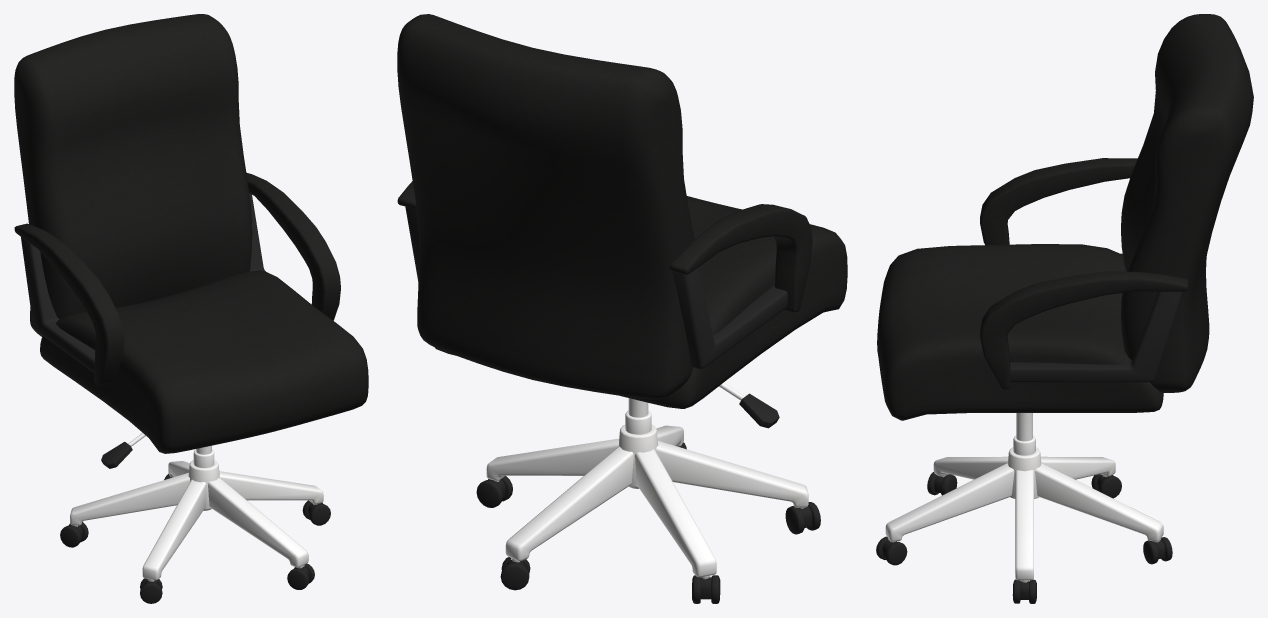
Rendered from Chair_B.fbx.
The picture shows the model from 3 angles, left to right: view 1: azimuth 30°, elevation 25°; view 2: azimuth 150°, elevation 25°; view 3: azimuth 270°, elevation 25°; orthographic projection. The views are drawn at different scales.
Visible parts, largest first — view 1: Chair_B; view 2: Chair_B; view 3: Chair_B.
Boxes of the visible parts, box(x1,y1,x2,y2) form: Chair_B: box(14, 14, 368, 603); Chair_B: box(397, 14, 847, 603); Chair_B: box(876, 14, 1253, 603).
Size of the model in its own units: 0.8196 by 1.47 by 1.04.
